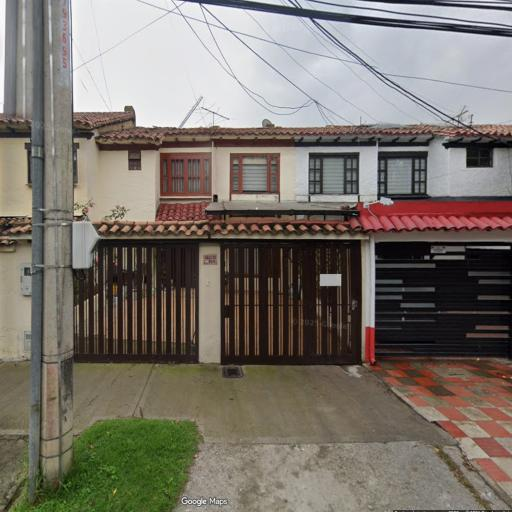Casa: (84, 110, 367, 369), (360, 120, 511, 373)
postes: (19, 0, 76, 492)
